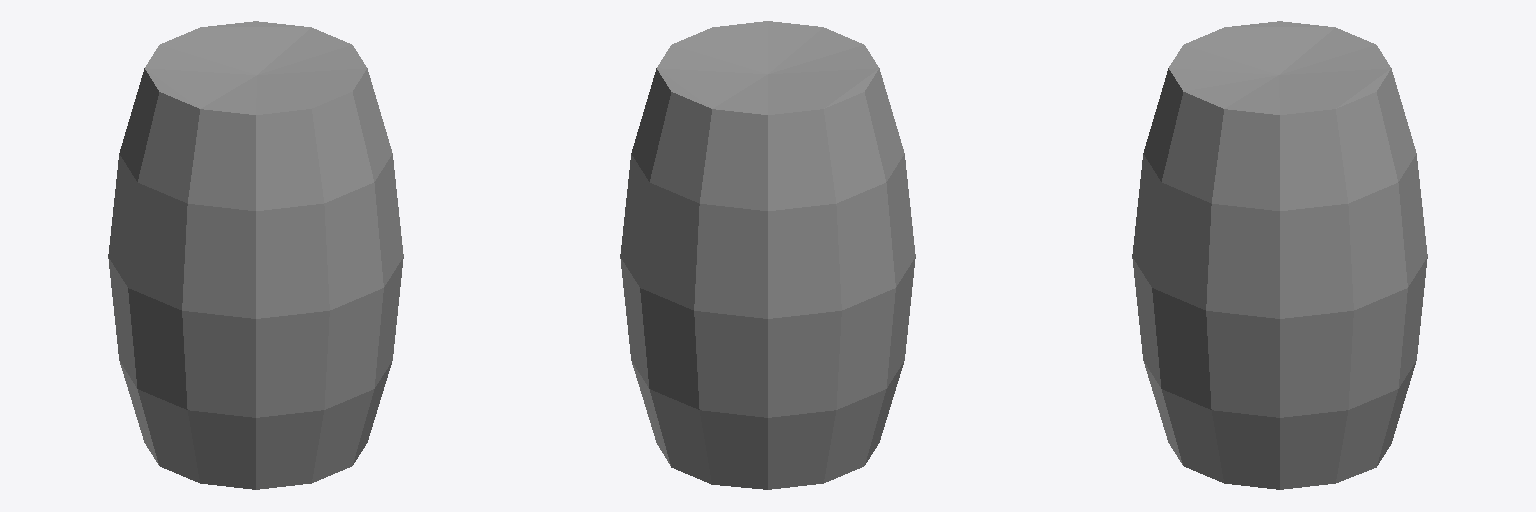
File: barrel.obj
3 views of the same model, side by side, from view 1: azimuth 30°, elevation 25°; view 2: azimuth 150°, elevation 25°; view 3: azimuth 270°, elevation 25° (orthographic).
Parts seen in each view (by area): view 1: g0; view 2: g0; view 3: g0.
Boxes of the visible parts, x1=… form: g0: x1=108, y1=21, x2=403, y2=489; g0: x1=620, y1=21, x2=915, y2=489; g0: x1=1132, y1=21, x2=1427, y2=489.
Bounding box in the file's own units: 1.27 × 1.78 × 1.27.